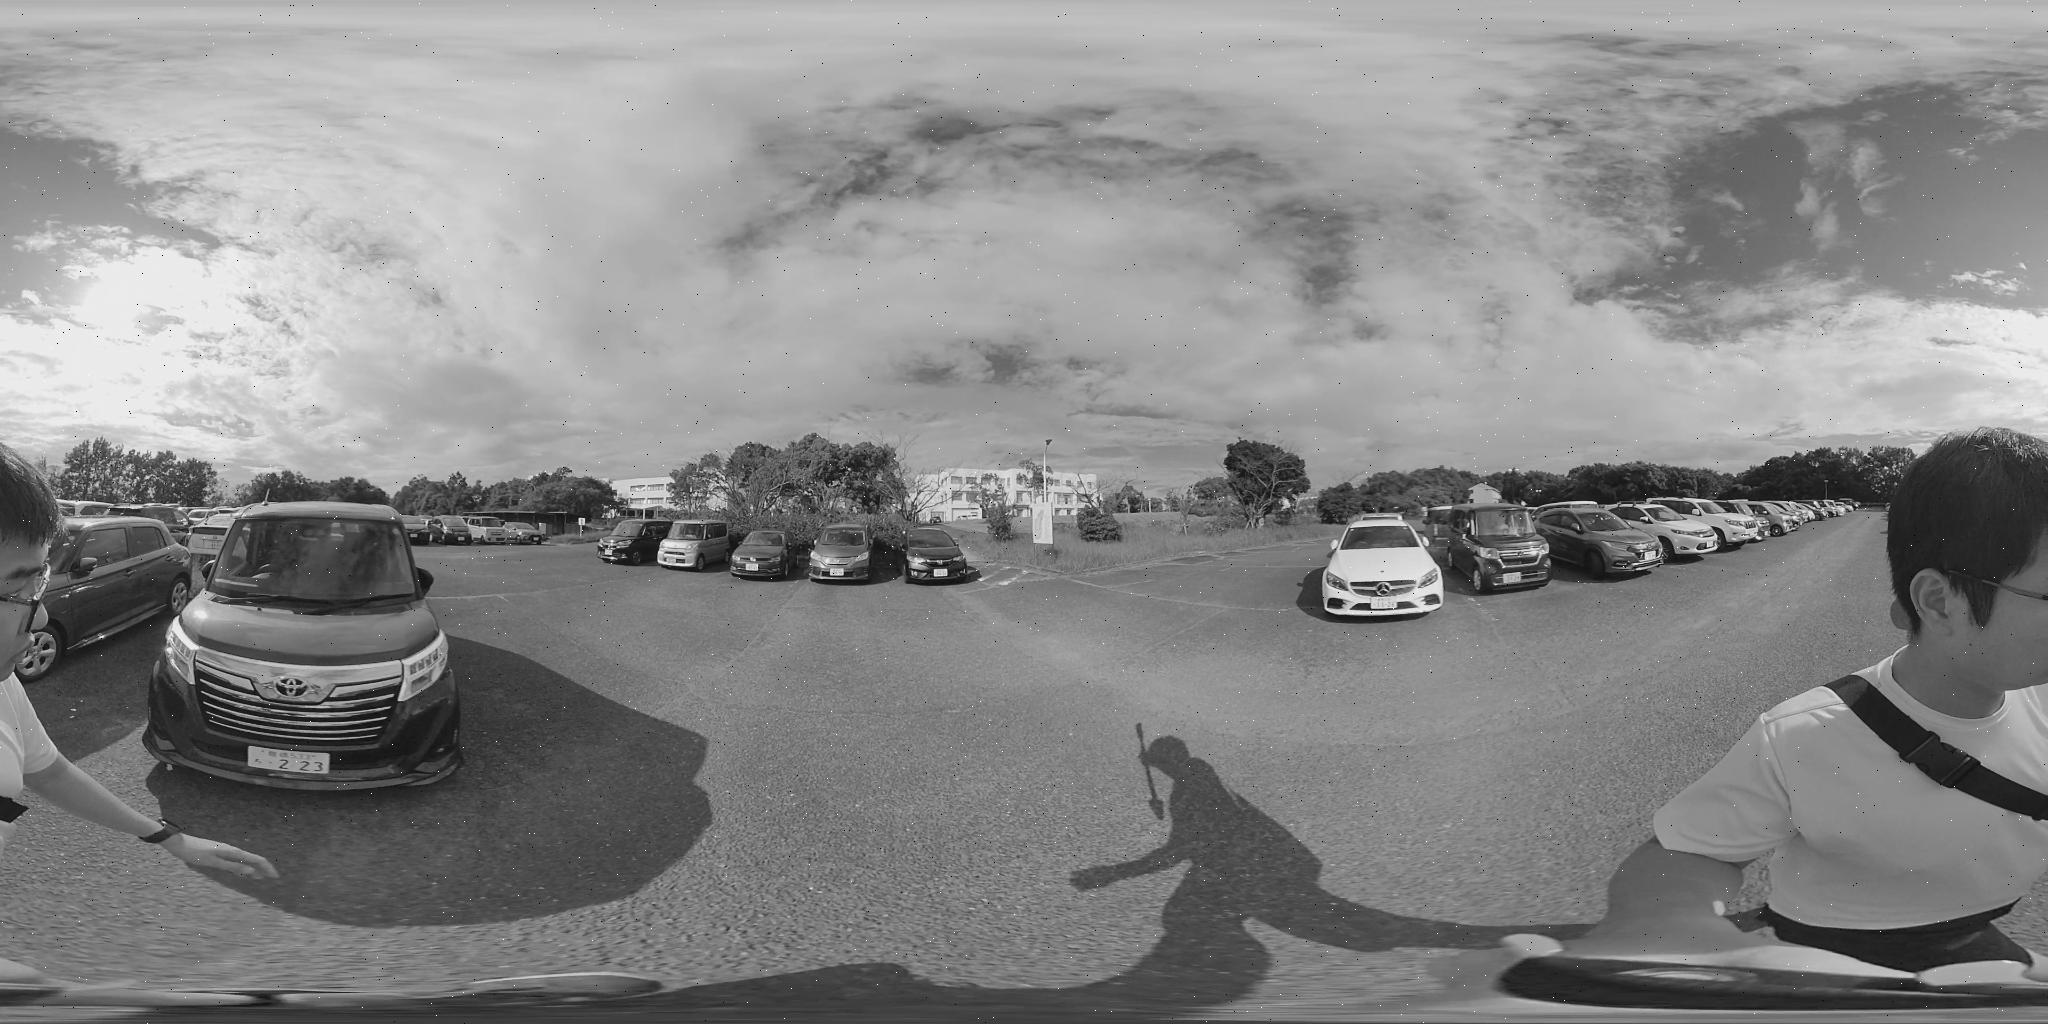car: (168, 505, 424, 781), (34, 513, 197, 669), (1322, 519, 1450, 623), (1424, 504, 1557, 592), (1543, 508, 1676, 579), (1624, 502, 1765, 556), (903, 526, 974, 584), (810, 525, 874, 581), (657, 521, 730, 569), (594, 519, 671, 562), (731, 529, 798, 577), (1345, 511, 1425, 545), (1745, 502, 1810, 533), (473, 521, 551, 546), (405, 520, 456, 545), (498, 524, 549, 543), (1812, 499, 1852, 517)
